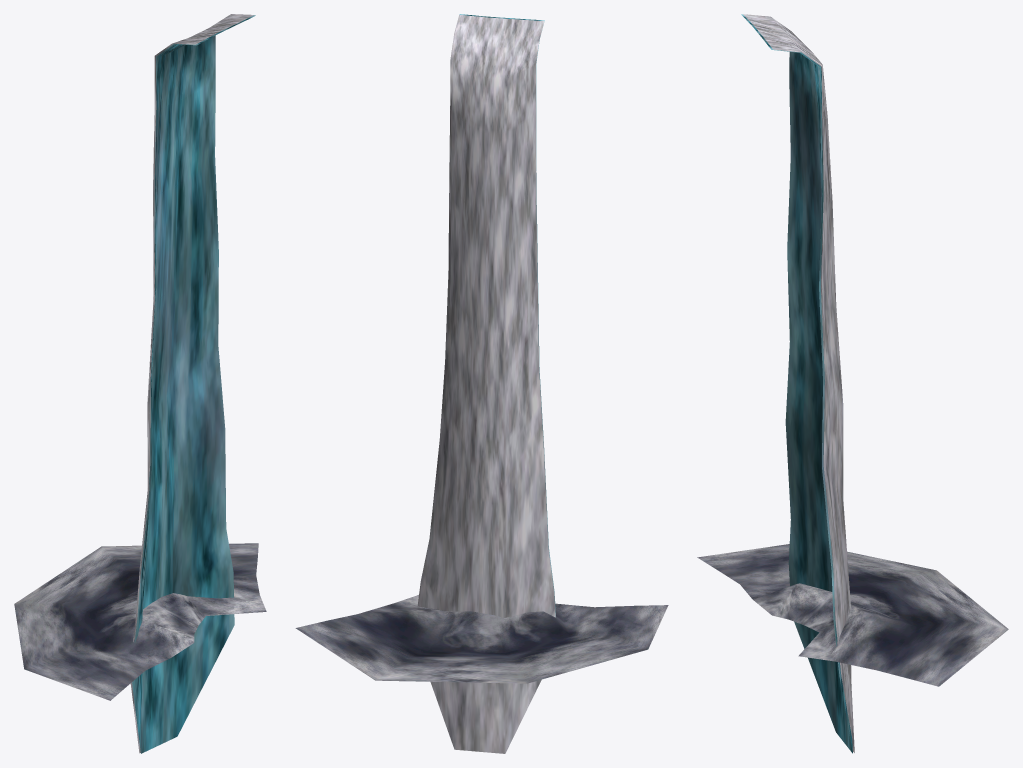
The model's file is OVERHILL_A_01_WATERFALLS04.fbx.
3 renders of one model, left to right at view 1: azimuth 30°, elevation 25°; view 2: azimuth 150°, elevation 25°; view 3: azimuth 270°, elevation 25°, orthographic. The views are drawn at different scales.
Parts seen in each view (by area): view 1: OVERHILL_A_01_WATERFALLS04; view 2: OVERHILL_A_01_WATERFALLS04; view 3: OVERHILL_A_01_WATERFALLS04.
Part boxes in pixels (x1,y1,x2,y2): OVERHILL_A_01_WATERFALLS04: (14,14,266,753); OVERHILL_A_01_WATERFALLS04: (295,14,668,753); OVERHILL_A_01_WATERFALLS04: (697,14,1008,753).
Bounding box in the file's own units: 69114 × 160780 × 62968.
3 materials, 3 textured.
